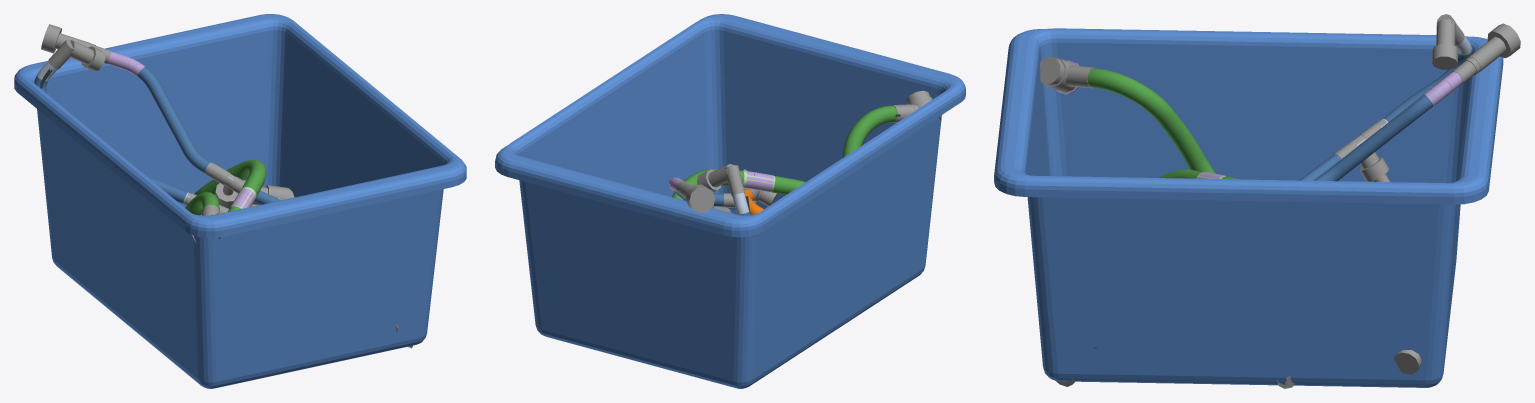
3 renders of one model, left to right at view 1: azimuth 30°, elevation 25°; view 2: azimuth 150°, elevation 25°; view 3: azimuth 270°, elevation 25°, orthographic. The views are drawn at different scales.
Visible parts, largest first — view 1: bin, tube_1_AB, tube_0_AB, tube_5_Y, tube_3_Y; view 2: bin, tube_3_Y, tube_0_AB, tube_1_AB, tube_5_Y, tube_2_X; view 3: bin, tube_3_Y, tube_1_AB, tube_0_AB, tube_6_X, tube_5_Y.
Part boxes in pixels (x1,y1,x2,y2): bin: [14, 14, 466, 388]; tube_1_AB: [41, 24, 398, 331]; tube_0_AB: [34, 39, 412, 348]; tube_5_Y: [194, 160, 266, 211]; tube_3_Y: [185, 192, 221, 242]; bin: [495, 14, 965, 388]; tube_3_Y: [842, 90, 941, 157]; tube_0_AB: [697, 164, 754, 235]; tube_1_AB: [668, 177, 755, 212]; tube_5_Y: [672, 169, 805, 200]; tube_2_X: [743, 169, 777, 214]; bin: [994, 28, 1503, 387]; tube_3_Y: [1040, 56, 1294, 388]; tube_1_AB: [1093, 23, 1520, 348]; tube_0_AB: [1056, 14, 1471, 386]; tube_6_X: [1394, 350, 1421, 374]; tube_5_Y: [1159, 169, 1240, 179].
Bounding box in the file's own units: 0.3086 × 0.2417 × 0.4215.
